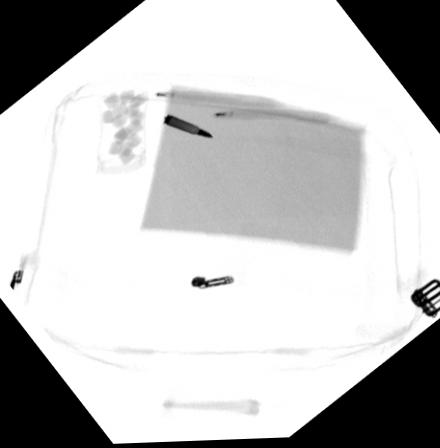Bullet: (161, 115, 215, 141)
